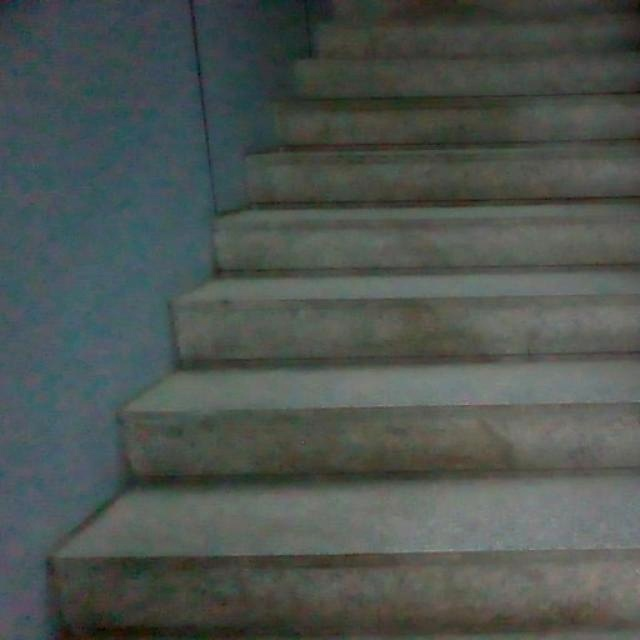stair: (31, 0, 640, 623)
